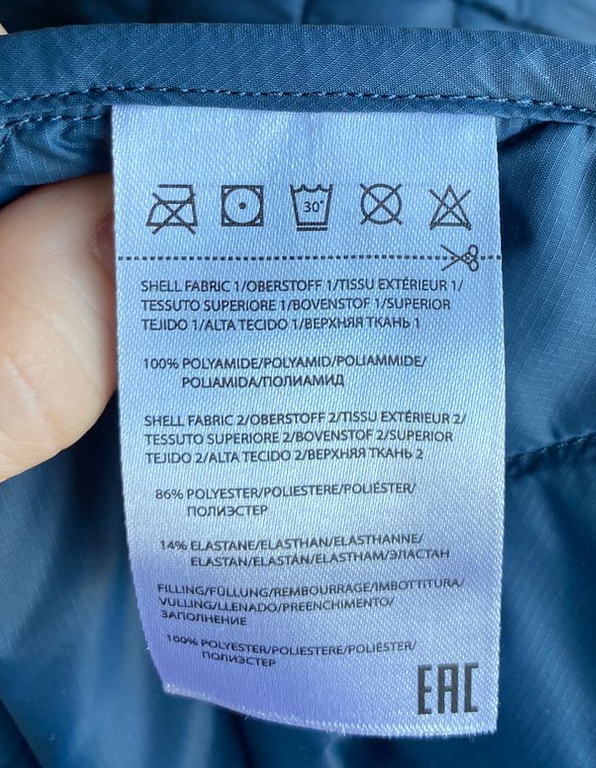do_not_bleach: (422, 181, 476, 236)
do_not_dry_clean: (354, 179, 408, 232)
do_not_iron: (142, 174, 203, 239)
tumble_drying_low_temps: (218, 179, 269, 227)
wash_at_or_below_30_mild_fine_wash: (286, 179, 337, 235)
